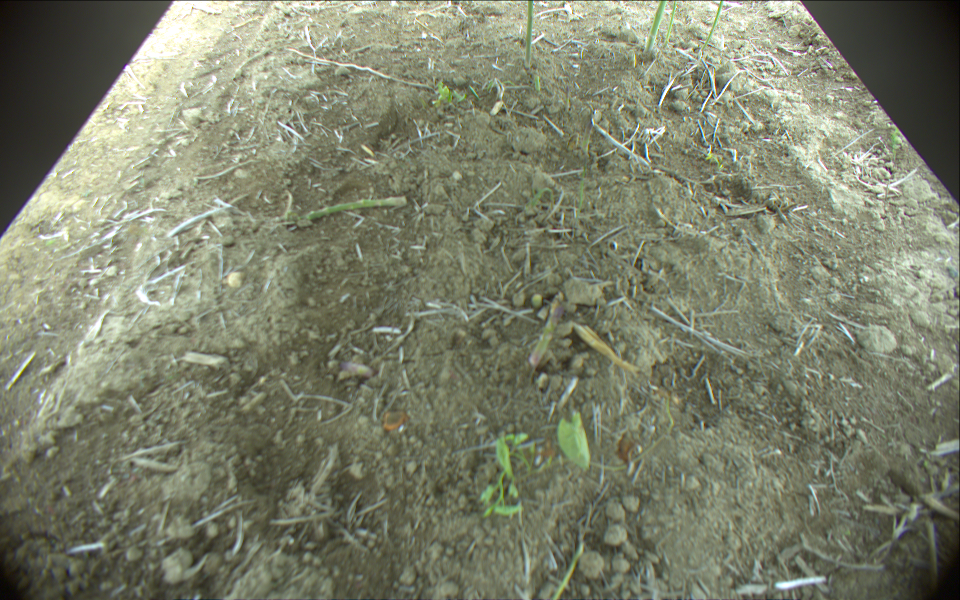aspa: (306, 195, 409, 221), (697, 1, 722, 51), (646, 1, 665, 53), (523, 1, 534, 67), (667, 1, 682, 47), (532, 72, 543, 93)
